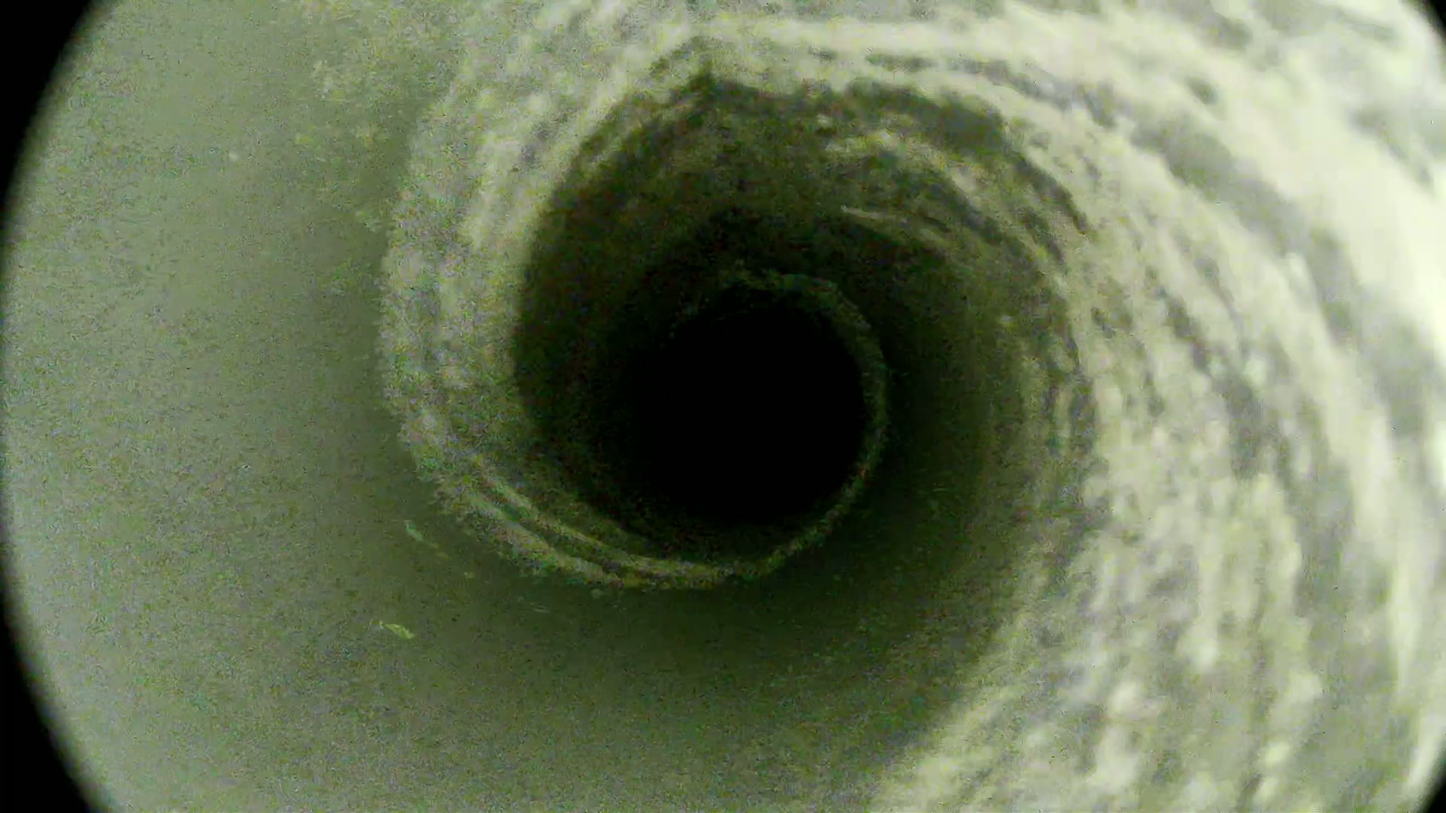hole: (659, 316, 862, 515)
